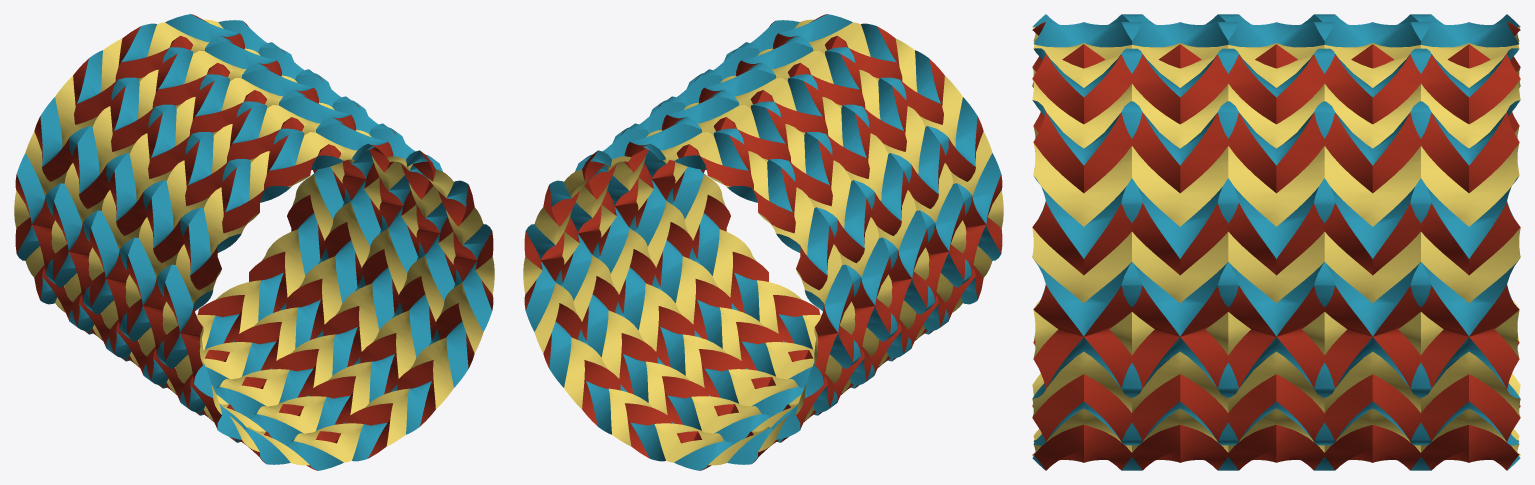
The model's file is pattern.FBX.
3 views of the same model, side by side, from view 1: azimuth 30°, elevation 25°; view 2: azimuth 150°, elevation 25°; view 3: azimuth 270°, elevation 25° (orthographic). The views are drawn at different scales.
Parts seen in each view (by area): view 1: Object019; view 2: Object019; view 3: Object019.
Part boxes in pixels (bbox=[...]): Object019: bbox=[14, 14, 494, 470]; Object019: bbox=[523, 14, 1003, 470]; Object019: bbox=[1032, 14, 1520, 470].
Bounding box in the file's own units: 473 × 477 × 515.
